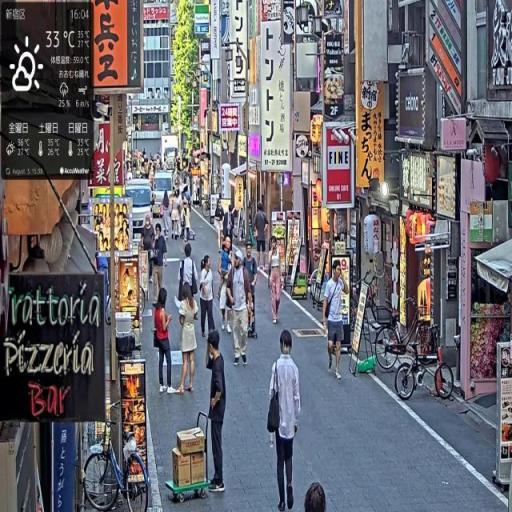person: (265, 330, 302, 512), (204, 331, 228, 499), (225, 251, 255, 369), (322, 262, 348, 383), (177, 287, 200, 398), (154, 287, 175, 399), (218, 234, 235, 333), (244, 244, 261, 340), (268, 241, 286, 331), (200, 257, 217, 344), (153, 223, 168, 304), (254, 200, 270, 275), (141, 215, 157, 288), (304, 481, 329, 512)
